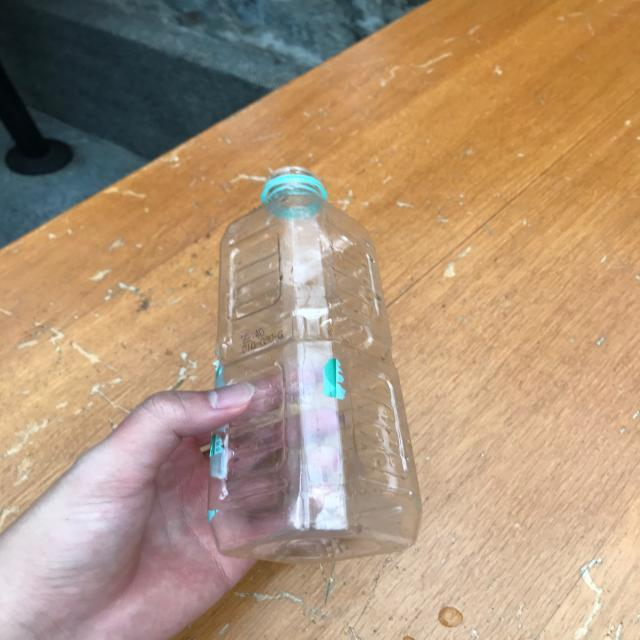plastic_bottle: (208, 166, 422, 564)
